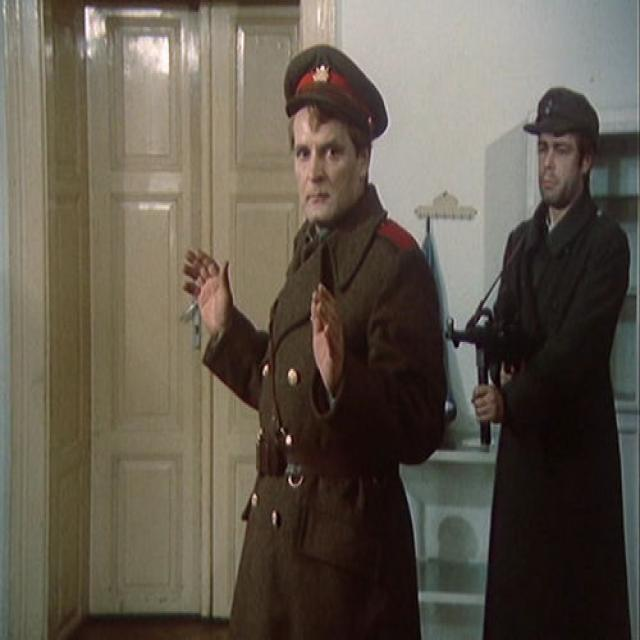rifle: (448, 306, 542, 454)
